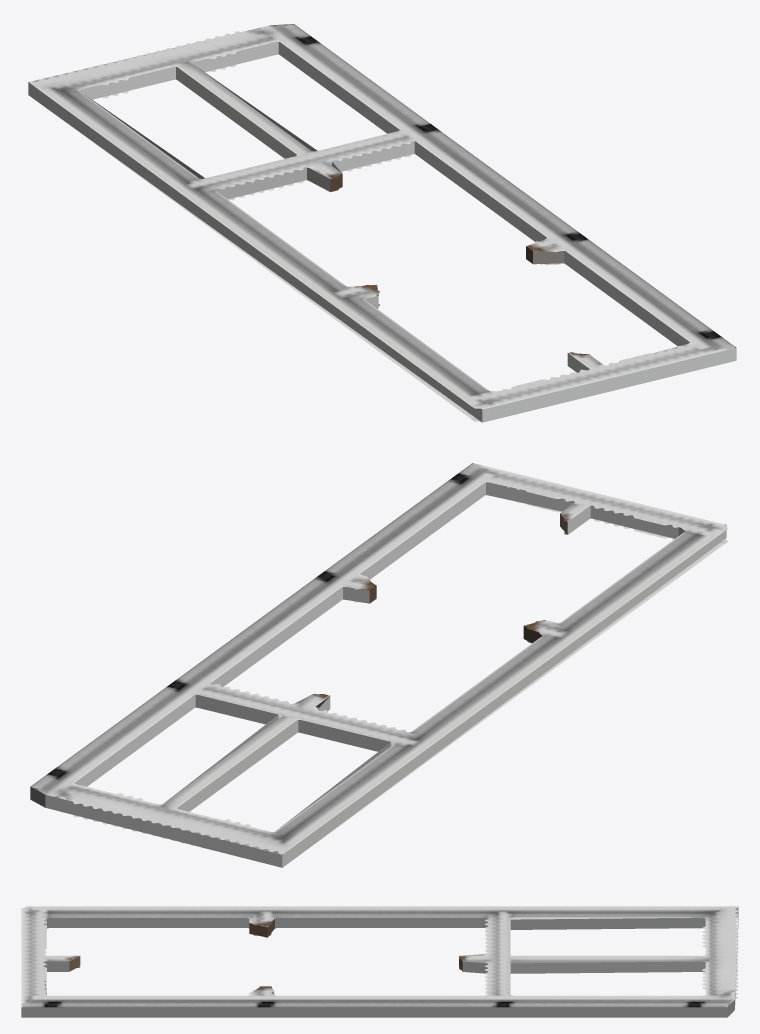
The model's file is pz_native_fixtures_windows_white_109_frame.obj.
The picture shows the model from 3 angles, top to bottom: view 1: azimuth 30°, elevation 25°; view 2: azimuth 150°, elevation 25°; view 3: azimuth 270°, elevation 25°; orthographic projection. The views are drawn at different scales.
Parts seen in each view (by area): view 1: pz_native_fixtures_windows_white_109_frame; view 2: pz_native_fixtures_windows_white_109_frame; view 3: pz_native_fixtures_windows_white_109_frame.
Part boxes in pixels (x1,y1,x2,y2): pz_native_fixtures_windows_white_109_frame: (28, 24, 736, 422); pz_native_fixtures_windows_white_109_frame: (30, 463, 727, 867); pz_native_fixtures_windows_white_109_frame: (21, 906, 738, 1017).
Size of the model in its own units: 0.875 by 0.04 by 2.54.
1 material, 1 textured.
